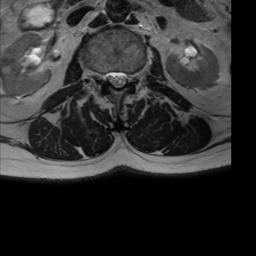CCS_stenosis: (113, 62, 121, 94)
LFS_normal: (128, 64, 136, 88)
LLS_normal: (121, 63, 128, 90)
RFS_normal: (98, 63, 105, 87)
RLS_normal: (105, 63, 113, 88)
